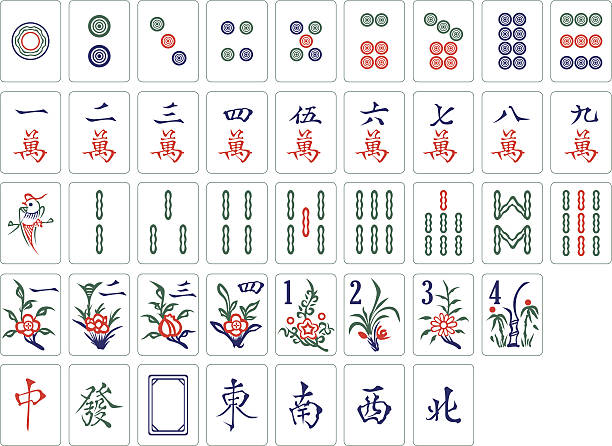b1: (0, 183, 61, 263)
b2: (68, 183, 129, 261)
b3: (139, 184, 200, 263)
b4: (208, 186, 267, 261)
b5: (276, 182, 335, 261)
b6: (344, 182, 404, 263)
b7: (412, 183, 474, 262)
b8: (484, 182, 542, 263)
b9: (552, 182, 611, 262)
c1: (5, 97, 57, 170)
c2: (73, 94, 123, 169)
c3: (139, 92, 196, 169)
c4: (209, 94, 261, 169)
c5: (277, 92, 335, 171)
c6: (345, 94, 398, 169)
c7: (411, 92, 470, 171)
c8: (487, 97, 539, 171)
c9: (554, 95, 609, 171)
d1: (2, 2, 61, 81)
d2: (72, 4, 126, 80)
d3: (140, 3, 197, 82)
d4: (212, 2, 265, 77)
d5: (277, 2, 334, 75)
d6: (349, 6, 399, 77)
d7: (417, 4, 472, 78)
d8: (485, 6, 537, 77)
d9: (557, 9, 605, 77)
dg: (70, 365, 126, 444)
dr: (1, 366, 59, 442)
dw: (140, 366, 196, 441)
f1-s: (277, 275, 333, 309)
f2-s: (345, 279, 401, 309)
f3-s: (416, 278, 476, 309)
f4-s: (486, 278, 542, 304)
s1-s: (2, 277, 61, 306)
s2-s: (70, 277, 128, 304)
s3-s: (138, 273, 199, 303)
s4-s: (205, 274, 266, 302)
we: (207, 364, 270, 439)
wn: (412, 362, 475, 446)
ws: (278, 365, 333, 442)
ww: (345, 366, 405, 440)
